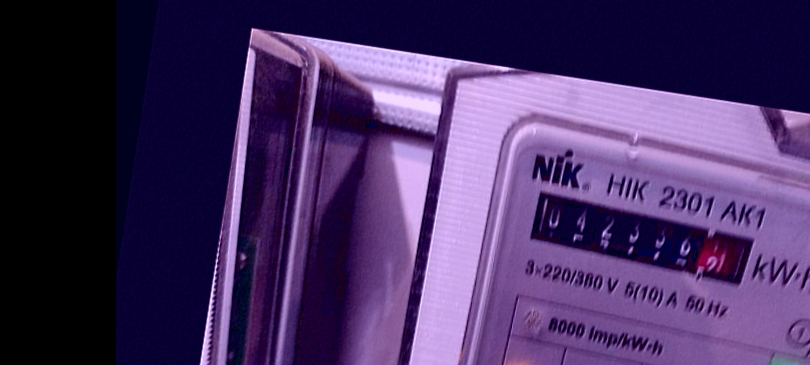0: (546, 201, 564, 231)
2: (598, 210, 620, 240)
3: (624, 215, 644, 246), (653, 220, 671, 250)
4: (572, 206, 592, 235)
6: (677, 230, 696, 259)
screen: (516, 180, 766, 296)
